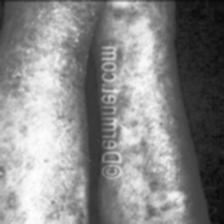Non-Cancerous Skin Condition: (6, 0, 81, 224), (125, 2, 173, 224)
